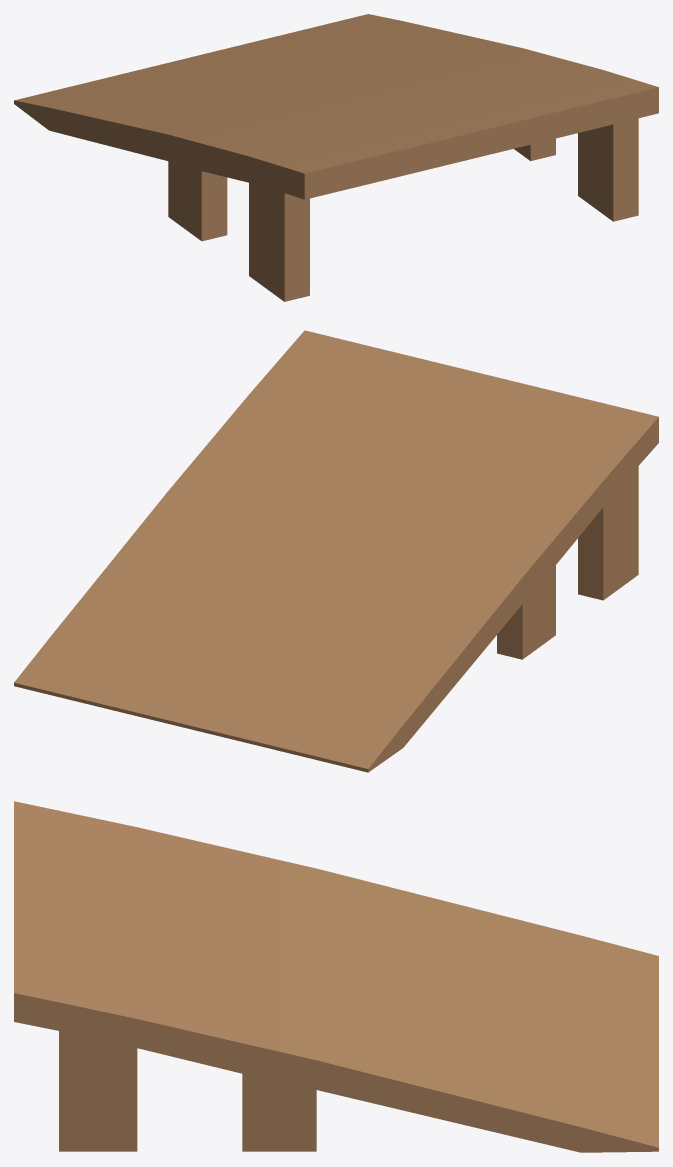
Rendered from Large Ramp.fbx.
3 views of the same model, one above another, from view 1: azimuth 30°, elevation 25°; view 2: azimuth 150°, elevation 25°; view 3: azimuth 270°, elevation 25° (orthographic). The views are drawn at different scales.
Parts seen in each view (by area): view 1: Ramp_Large; view 2: Ramp_Large; view 3: Ramp_Large.
Boxes of the visible parts, x1=… form: Ramp_Large: x1=14, y1=14, x2=658, y2=301; Ramp_Large: x1=14, y1=330, x2=658, y2=772; Ramp_Large: x1=14, y1=801, x2=658, y2=1152.
Bounding box in the file's own units: 7.82 × 3.04 × 11.12.
